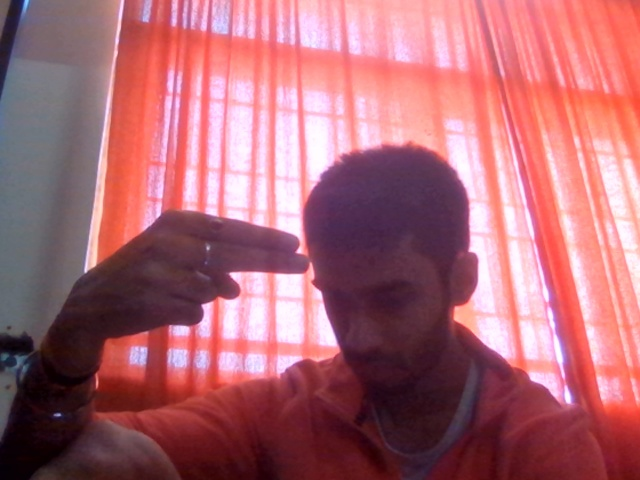H: (21, 183, 322, 386)
